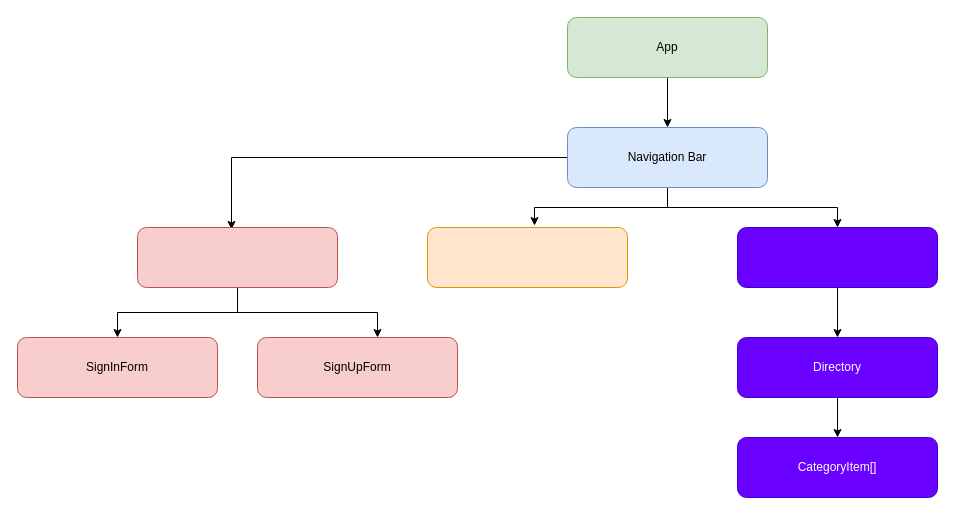
Image size: 955x515. Some labels were removed from this diagram. The centre of each missing label's shape, as x and y in pixels:
Authentication: [237,257]
Home page: [837,257]
Shop: [527,257]
